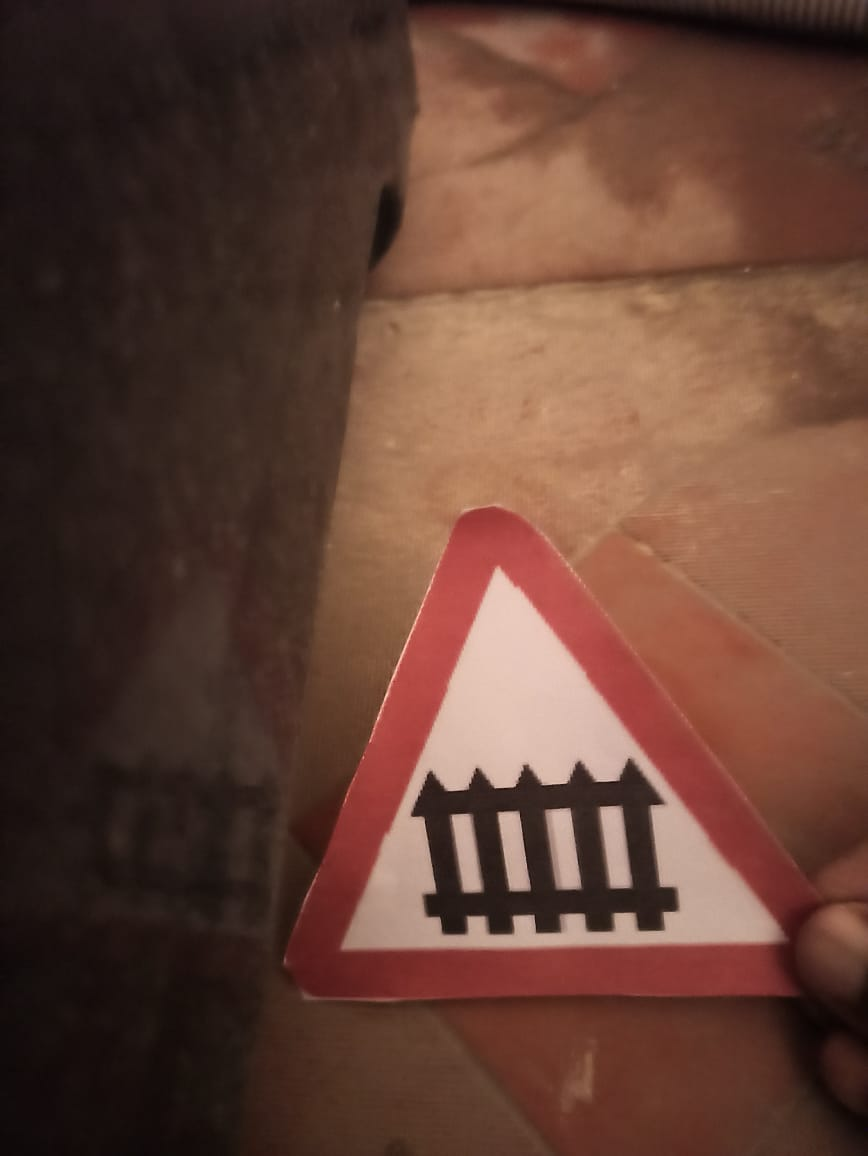GUARDED LEVEL CROSSING: (289, 489, 861, 1029)
